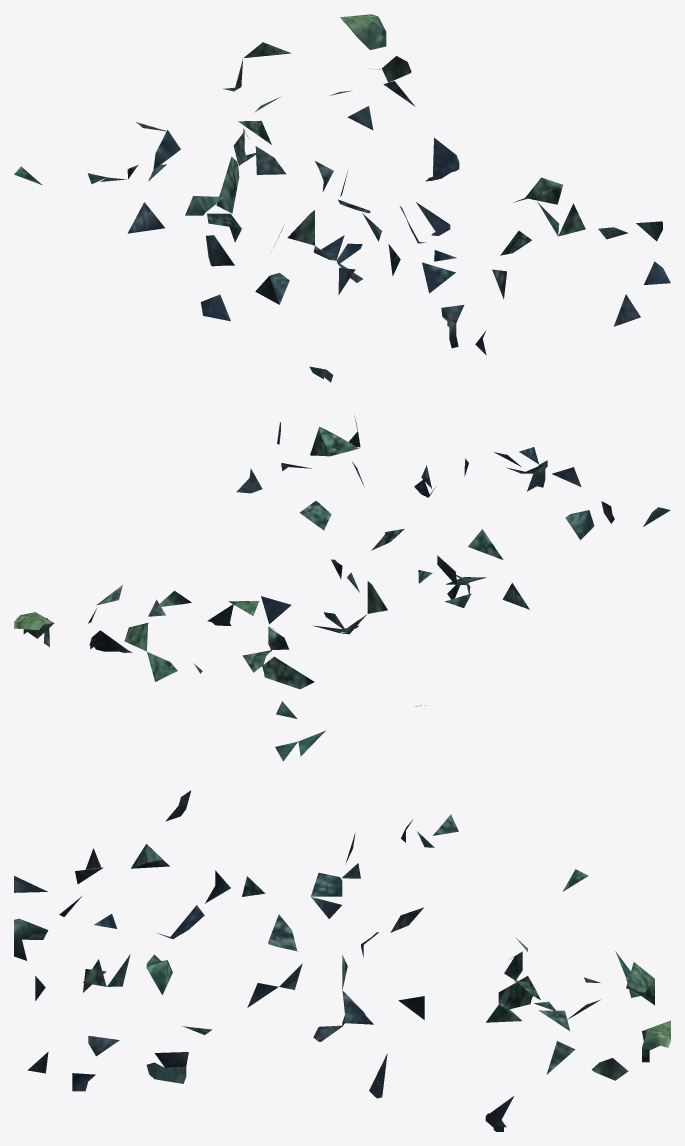
3 views of the same model, one above another, from view 1: azimuth 30°, elevation 25°; view 2: azimuth 150°, elevation 25°; view 3: azimuth 270°, elevation 25° (orthographic). The views are drawn at different scales.
Parts seen in each view (by area): view 1: 30436272704370404736_1; view 2: 30436272704370404736_1; view 3: 30436272704370404736_1.
Boxes of the visible parts, x1,y1,x2,y2 form: 30436272704370404736_1: (14,14,670,382); 30436272704370404736_1: (14,416,670,761); 30436272704370404736_1: (14,790,670,1131).
Size of the model in its own units: 27.32 by 9.71 by 38.26.
Materials: 1 (1 with a texture image).
